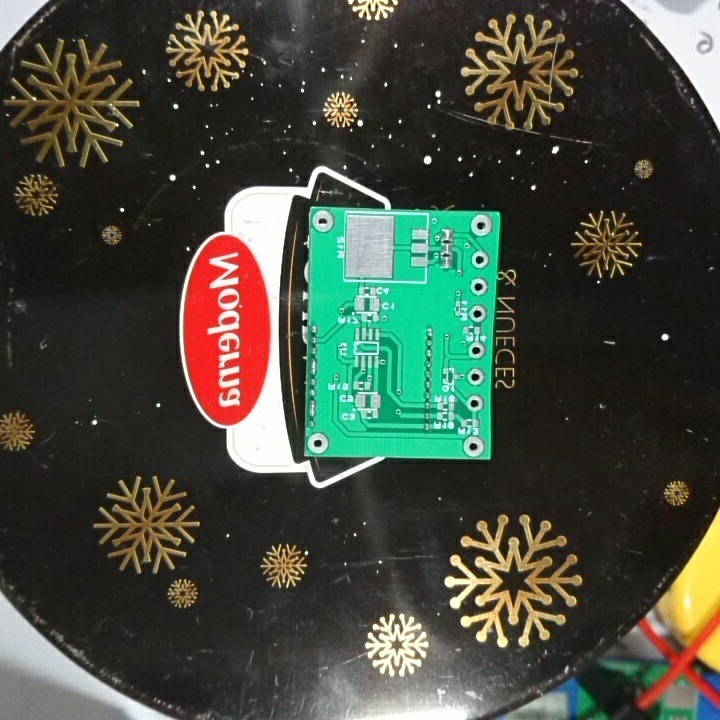F: (311, 207, 336, 235), (461, 432, 485, 460), (306, 429, 331, 455), (468, 213, 495, 237), (467, 303, 491, 325), (469, 249, 491, 272), (468, 275, 491, 297), (467, 340, 487, 363), (465, 366, 485, 389), (465, 393, 485, 415)
P: (306, 357, 321, 379), (307, 398, 319, 419)
